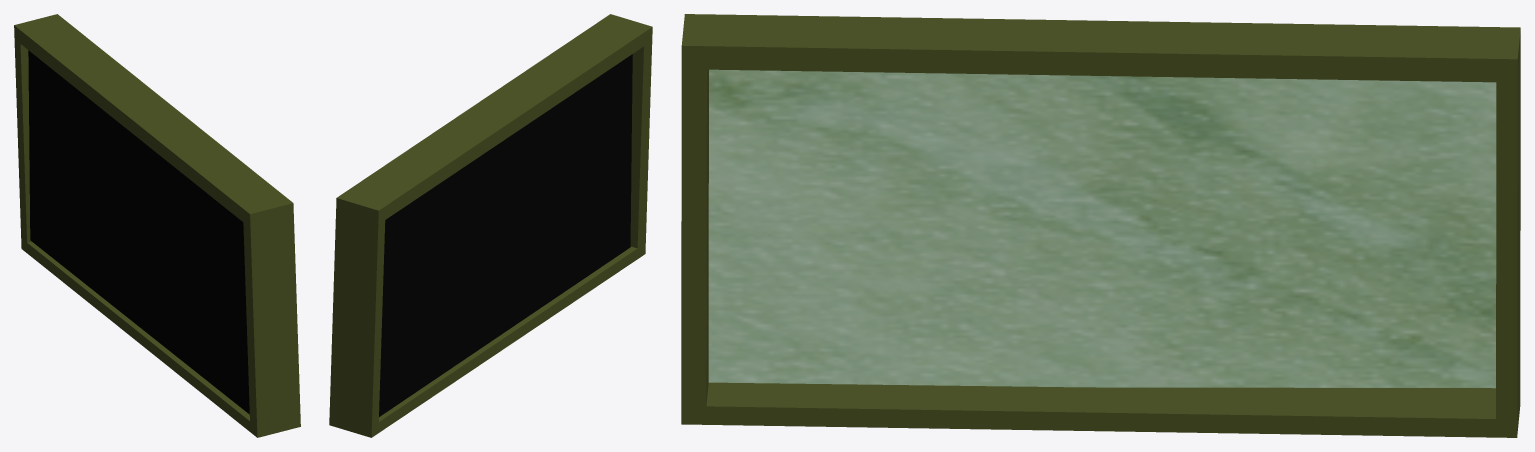
The model's file is cuadro.obj.
3 renders of one model, left to right at view 1: azimuth 30°, elevation 25°; view 2: azimuth 150°, elevation 25°; view 3: azimuth 270°, elevation 25°, orthographic. The views are drawn at different scales.
Parts seen in each view (by area): view 1: pCube27; view 2: pCube27; view 3: pCube27.
Boxes of the visible parts, left/top/right/bottom form: pCube27: left=14, top=14, right=300, bottom=437; pCube27: left=329, top=14, right=652, bottom=437; pCube27: left=681, top=14, right=1520, bottom=437.
Size of the model in its own units: 0.7479 by 2.44 by 4.94.
Materials: 3 (2 with a texture image).
